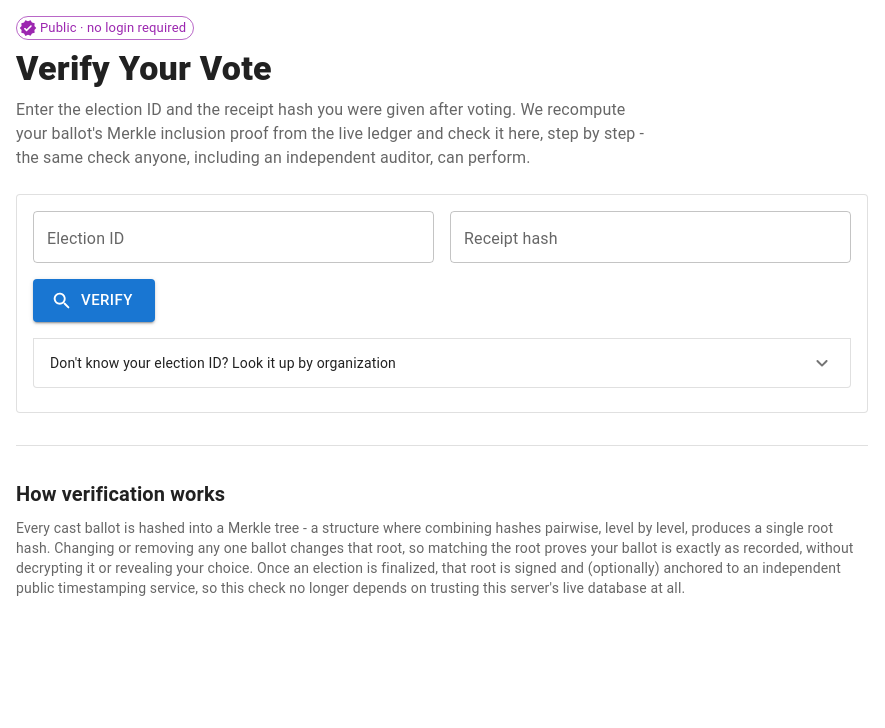
Test: Verify Page › Verification Flow › shows a failure banner when the proof does not verify
This screenshot has width=885, height=728.
In the field labelled "Election ID": point(234, 237) [33,211,434,263], type "election-1"
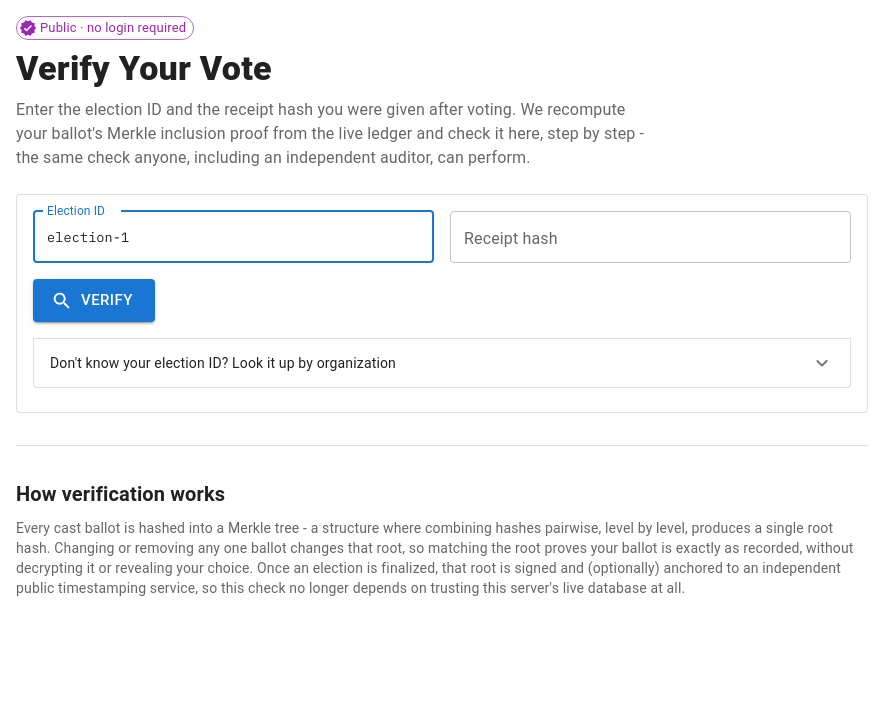
In the field labelled "Receipt hash": point(650, 237) [450,211,851,263], type "receipt-hash-abc"
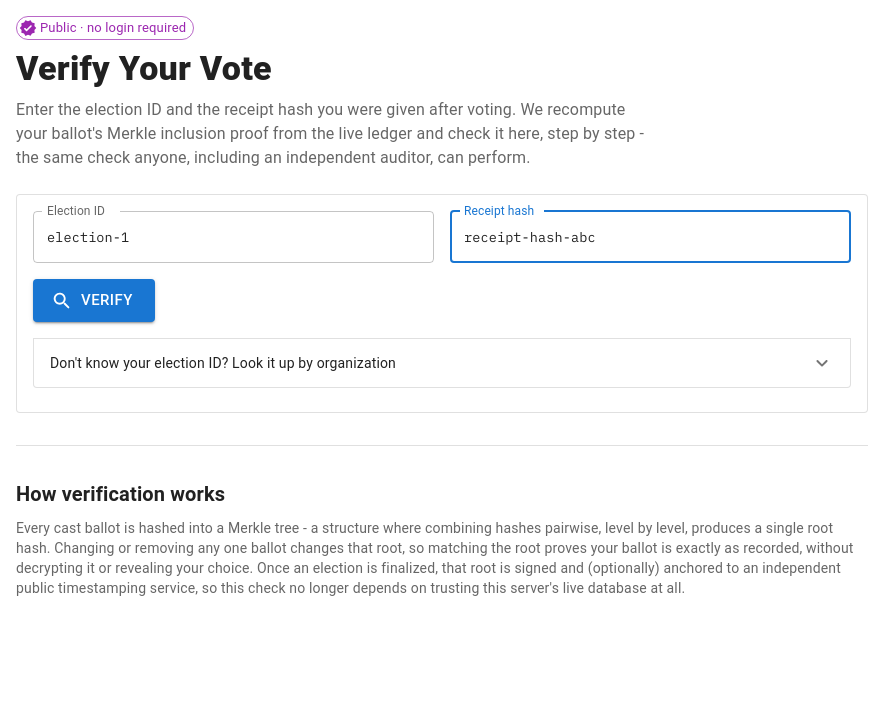
Click the button "Verify": point(94, 301) [33,279,155,322]
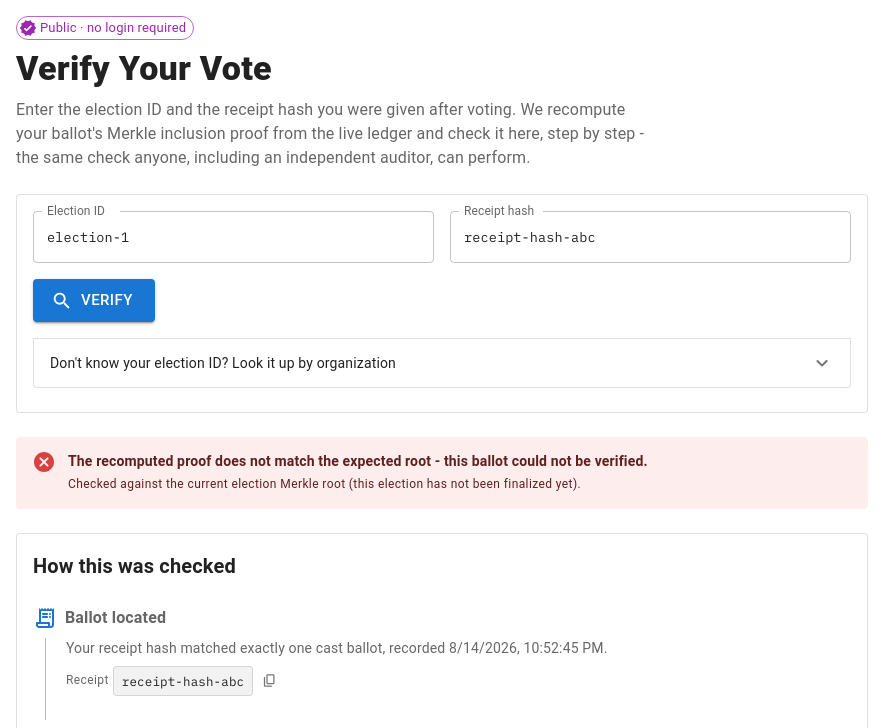
Now the text "could not be verified" is shown, box [68,453,648,469]
